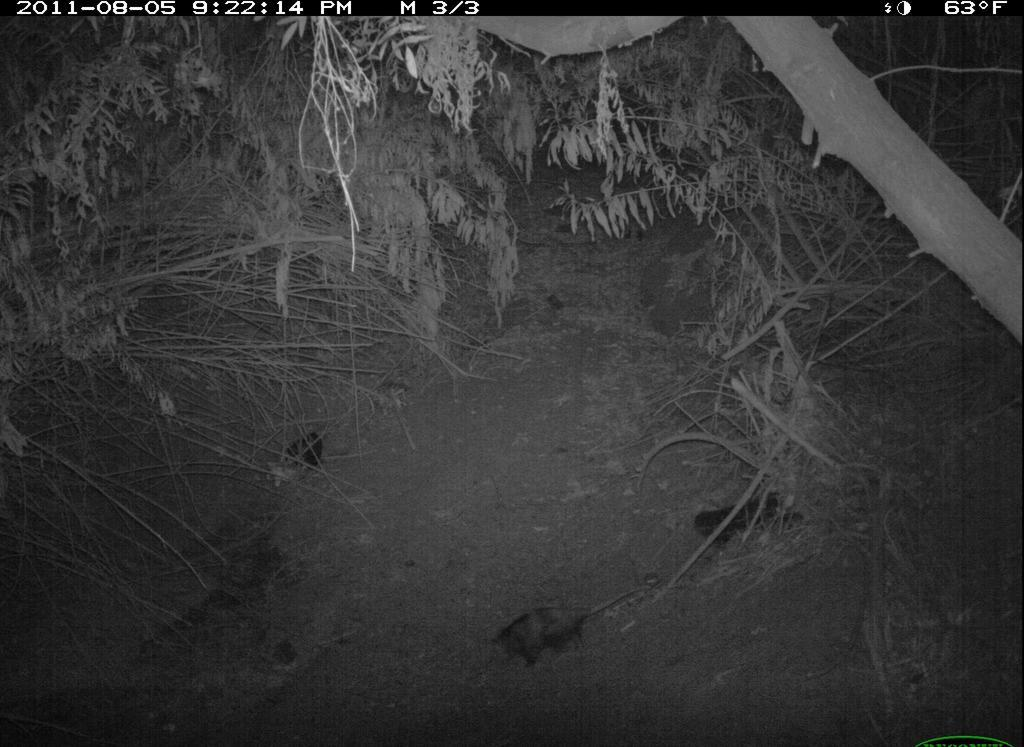opossum: (486, 575, 666, 676)
